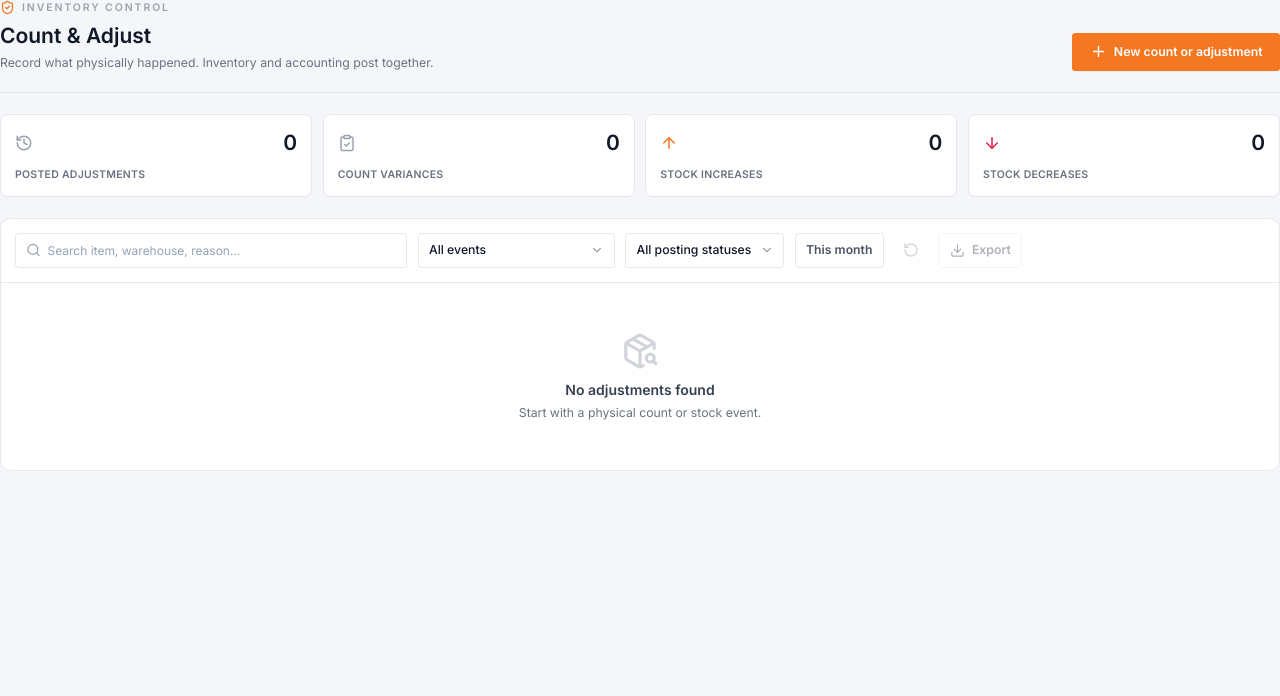
Test case: StockAdjustmentsView guided posting › blocks an outbound event that would create negative stock
Step 1. Click the button "New count or adjustment" → (1176, 52), box [1072,32,1279,71]
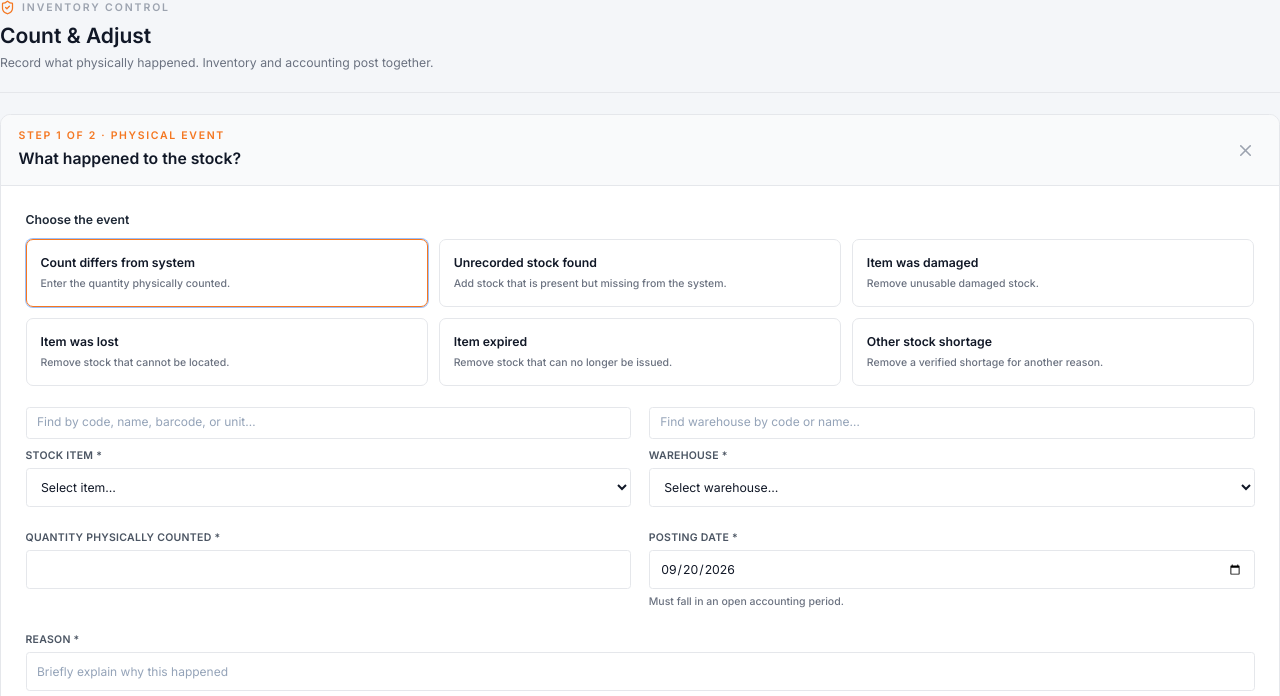
Step 2. Click the radio button labelled "Item was damaged Remove unusable damaged stock." → (923, 262), box [852,238,1254,307]
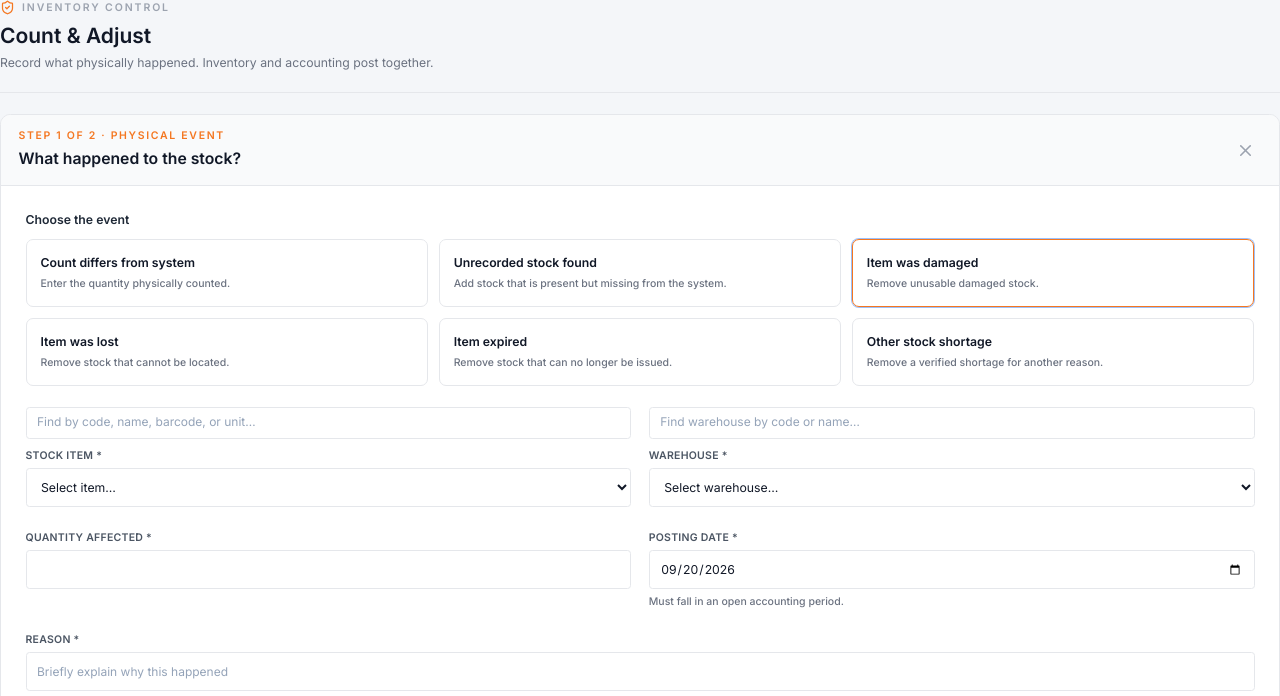
Step 3. Select "PAPER-A4 — A4 Paper" in the dropdown labelled "Stock item *" → (328, 487), box [26,468,631,507]
Step 4. Select "MAIN — Main Warehouse" in the dropdown labelled "Warehouse *" → (952, 487), box [649,468,1255,507]
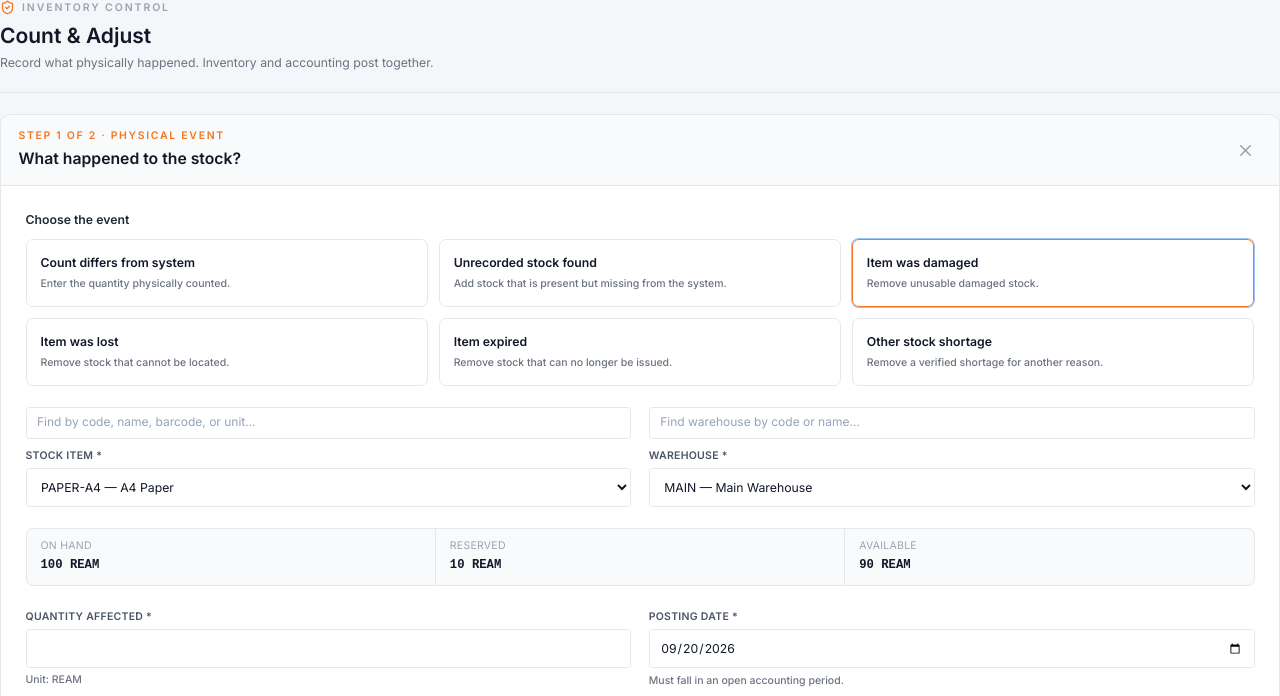
Step 5. Type "101" into the number field → (328, 649), box [26,629,631,668]
(page scrolled)
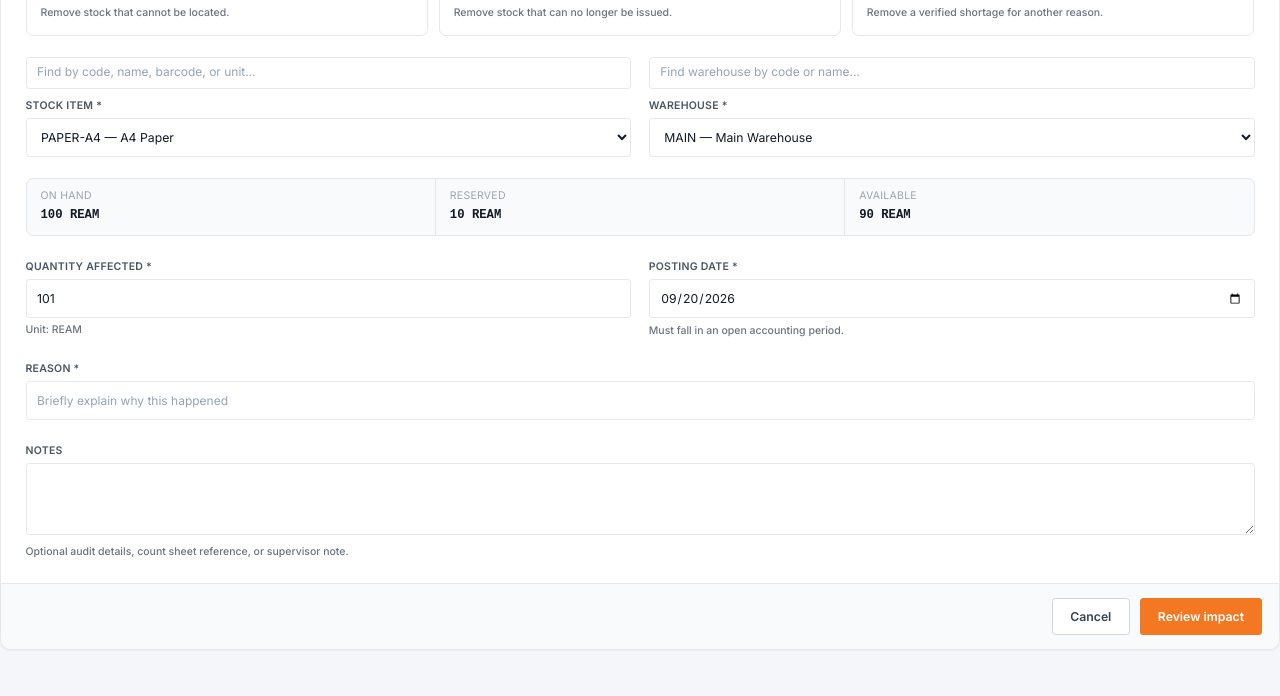
Step 6. Type "Water damage" into the field labelled "Reason *" → (640, 400), box [26,381,1254,420]
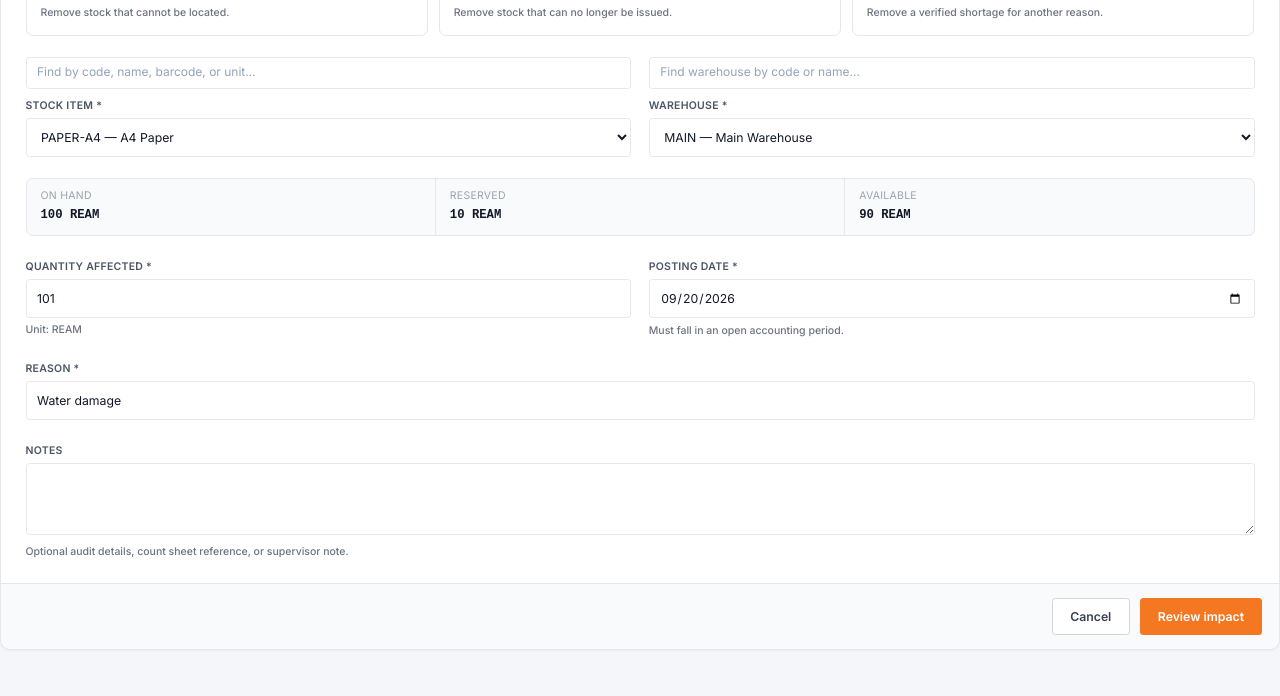
Step 7. Click the button "Review impact" → (1201, 617), box [1140,598,1262,636]
(page scrolled)
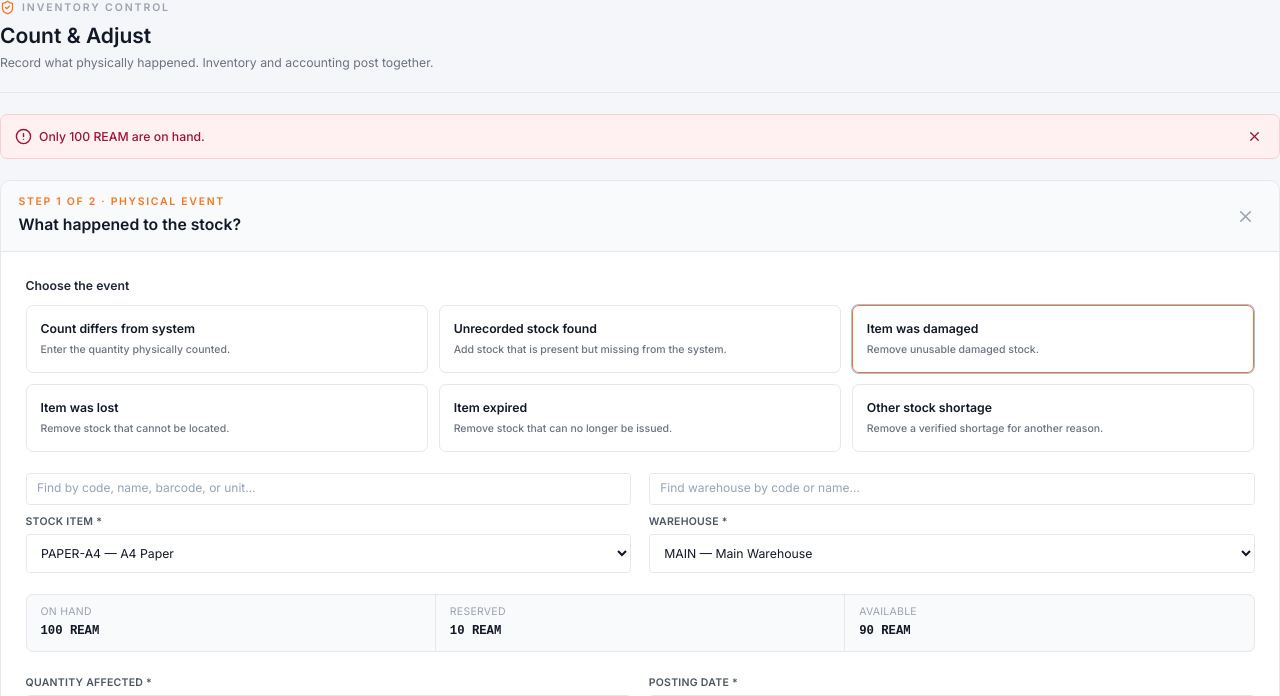
Now the text "Only 100 REAM are on hand." is shown, box [39,128,205,145]
